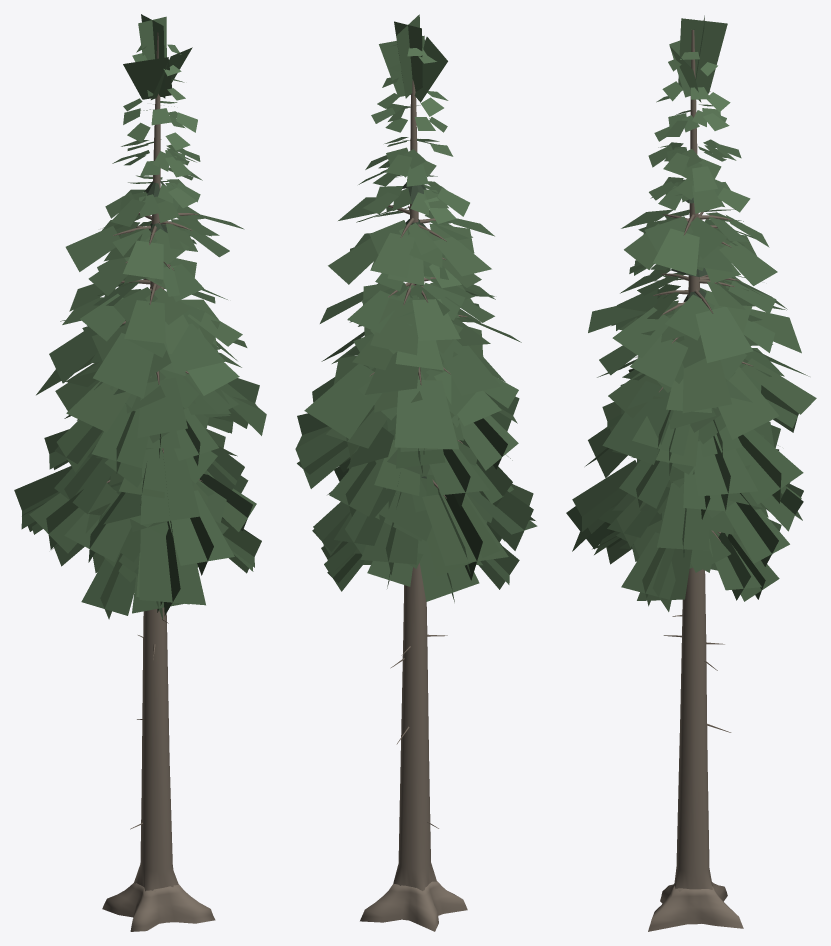
The model's file is fir_giant.glb.
3 renders of one model, left to right at view 1: azimuth 30°, elevation 25°; view 2: azimuth 150°, elevation 25°; view 3: azimuth 270°, elevation 25°, orthographic.
Parts seen in each view (by area): view 1: fir_giant; view 2: fir_giant; view 3: fir_giant.
Boxes of the visible parts, x1,y1,x2,y2 form: fir_giant: [14, 14, 266, 931]; fir_giant: [295, 14, 537, 931]; fir_giant: [566, 15, 816, 931].
Bounding box in the file's own units: 8.09 × 31.57 × 8.01.
